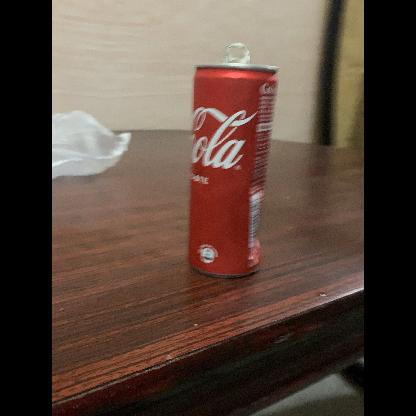Dent_Can: (240, 231, 263, 269), (238, 175, 266, 205)
Lid_Open: (217, 35, 257, 74)
Tin_Can: (178, 36, 278, 296)
